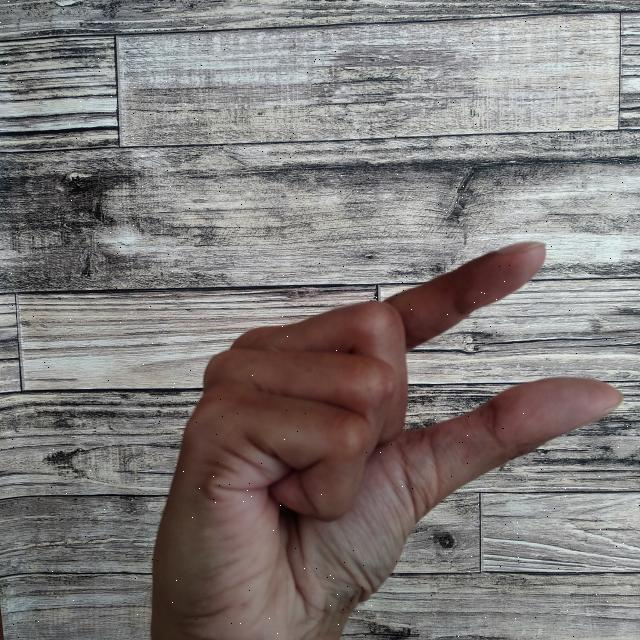G: (148, 235, 627, 640)
